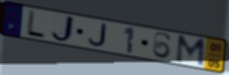1: (123, 27, 136, 55)
6: (152, 32, 173, 61)
J: (49, 14, 76, 44), (87, 23, 108, 48)
L: (25, 9, 47, 40)
M: (174, 34, 207, 69)
